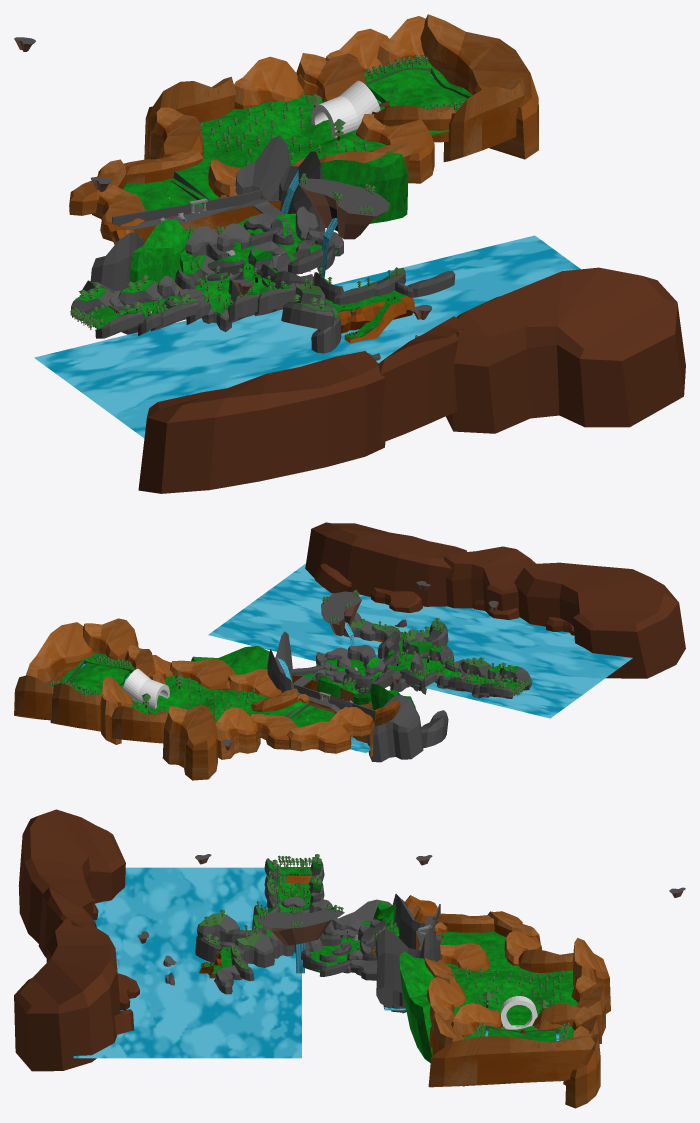
The model's file is FlorestaFinal 1.fbx.
3 views of the same model, one above another, from view 1: azimuth 30°, elevation 25°; view 2: azimuth 150°, elevation 25°; view 3: azimuth 270°, elevation 25° (orthographic). The views are drawn at different scales.
Parts seen in each view (by area): view 1: Parte_Dagua, Floresta, Terreno_Parte6, Terreno_Parte7, Terreno_Parte8, Terreno_Parte4, Terreno_Parte2, Terreno_Parte5, Terreno_Parte3; view 2: Parte_Dagua, Floresta, Terreno_Parte6, Terreno_Parte7, Terreno_Parte3, Terreno_Parte4, Terreno_Parte2; view 3: Parte_Dagua, Floresta, Terreno_Parte6, Terreno_Parte7, Terreno_Parte1, Terreno_Parte4, Terreno_Parte3, Terreno_Parte5, Terreno_Parte8.
Boxes of the visible parts, box(x1,y1,x2,y2) form: Parte_Dagua: box(34, 235, 685, 493); Floresta: box(14, 14, 538, 353); Terreno_Parte6: box(201, 94, 387, 168); Terreno_Parte7: box(364, 58, 472, 135); Terreno_Parte8: box(325, 290, 414, 343); Terreno_Parte4: box(123, 178, 208, 210); Terreno_Parte2: box(167, 265, 276, 305); Terreno_Parte5: box(173, 154, 218, 199); Terreno_Parte3: box(177, 213, 337, 285); Parte_Dagua: box(208, 522, 685, 718); Floresta: box(14, 589, 532, 780); Terreno_Parte6: box(130, 675, 268, 722); Terreno_Parte7: box(51, 653, 135, 695); Terreno_Parte3: box(292, 659, 420, 709); Terreno_Parte4: box(288, 702, 335, 727); Terreno_Parte2: box(376, 652, 460, 677); Parte_Dagua: box(14, 809, 301, 1071); Floresta: box(195, 854, 685, 1108); Terreno_Parte6: box(452, 968, 577, 1025); Terreno_Parte7: box(464, 1025, 574, 1042); Terreno_Parte1: box(277, 866, 312, 904); Terreno_Parte4: box(439, 931, 505, 951); Terreno_Parte3: box(310, 937, 376, 970); Terreno_Parte5: box(446, 951, 526, 971); Terreno_Parte8: box(199, 946, 231, 983).
Bounding box in the file's own units: 91039 × 18664 × 105925.
